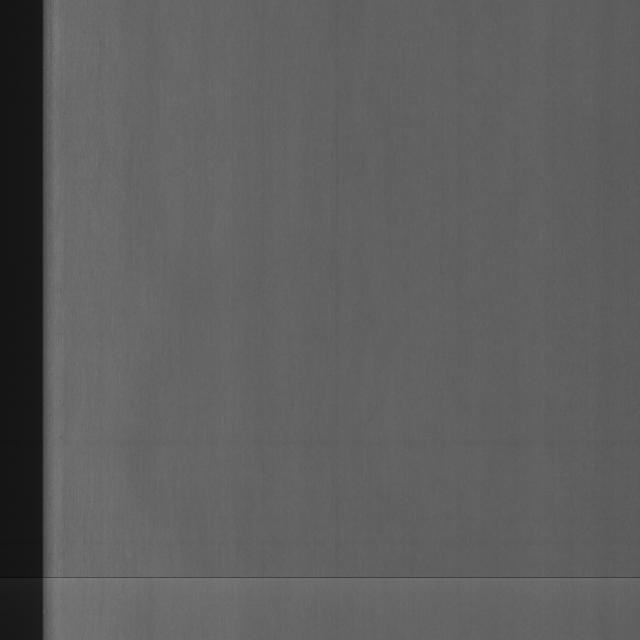crease: (40, 556, 640, 600)
